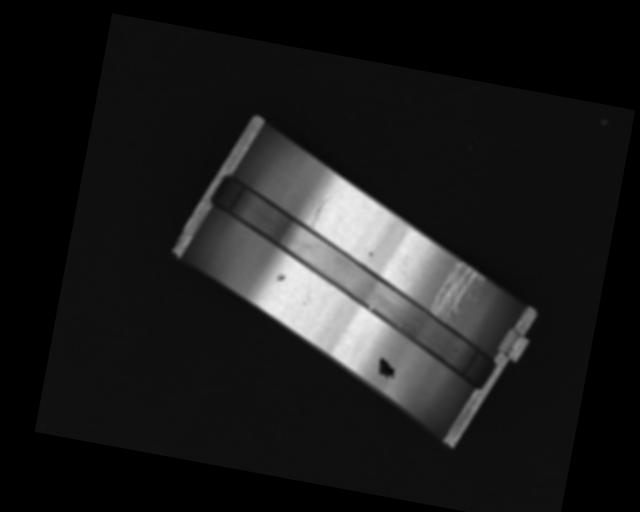blot: (375, 356, 399, 380)
bruise: (275, 272, 286, 281), (368, 252, 373, 258)
gap: (184, 171, 518, 390)
nick: (309, 189, 334, 233)
scratch: (430, 258, 487, 325)
